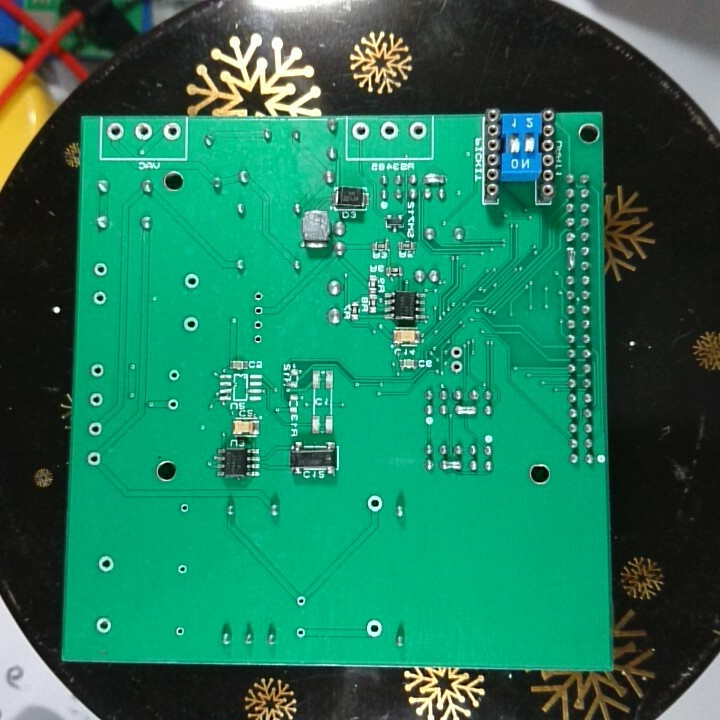F: (159, 120, 182, 142), (131, 120, 155, 141), (364, 616, 385, 640), (377, 119, 399, 141), (349, 121, 371, 143), (104, 120, 125, 142), (95, 553, 117, 574), (408, 120, 428, 141), (365, 493, 385, 514), (181, 314, 200, 334), (181, 272, 202, 290), (86, 419, 105, 437), (94, 615, 112, 634), (88, 391, 106, 409), (174, 560, 190, 580), (92, 260, 109, 278), (92, 289, 108, 308), (292, 624, 311, 640), (85, 449, 102, 466), (447, 359, 465, 375), (90, 362, 105, 380), (172, 624, 188, 640), (167, 366, 182, 383), (448, 345, 465, 360), (250, 317, 265, 332), (293, 592, 308, 607), (177, 501, 191, 517), (166, 395, 179, 412), (251, 289, 265, 303), (251, 304, 265, 318), (251, 332, 264, 346)
P: (453, 402, 477, 420), (421, 171, 448, 187), (439, 458, 463, 474), (565, 246, 578, 272)
